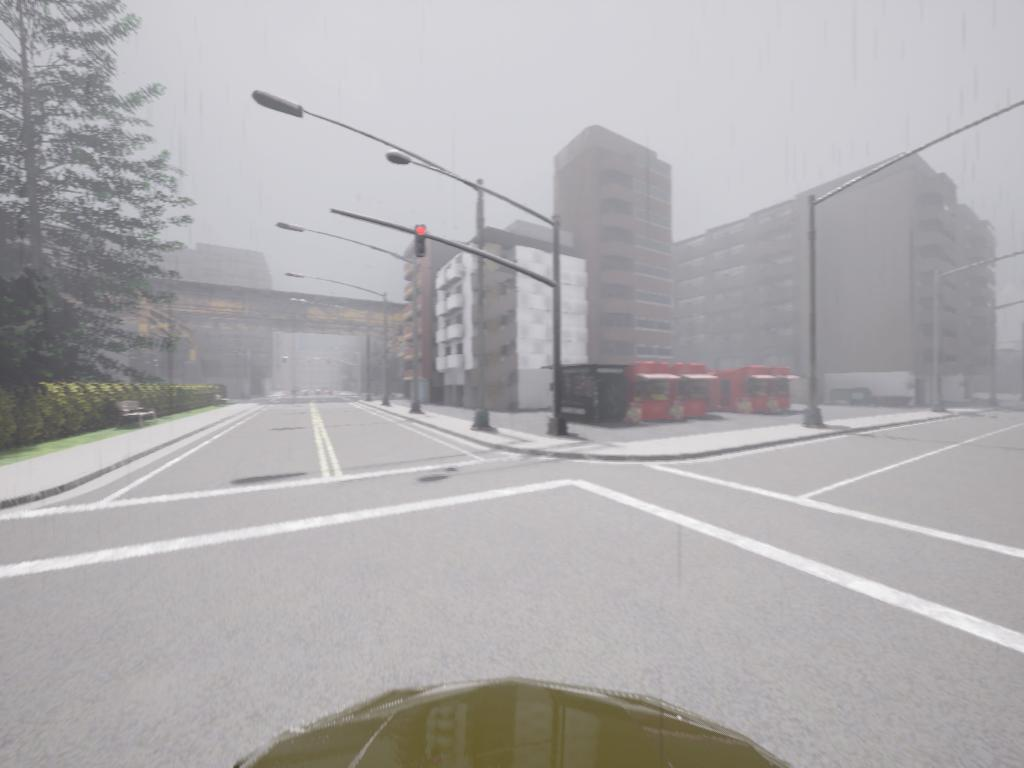traffic_light: (415, 224, 429, 259)
